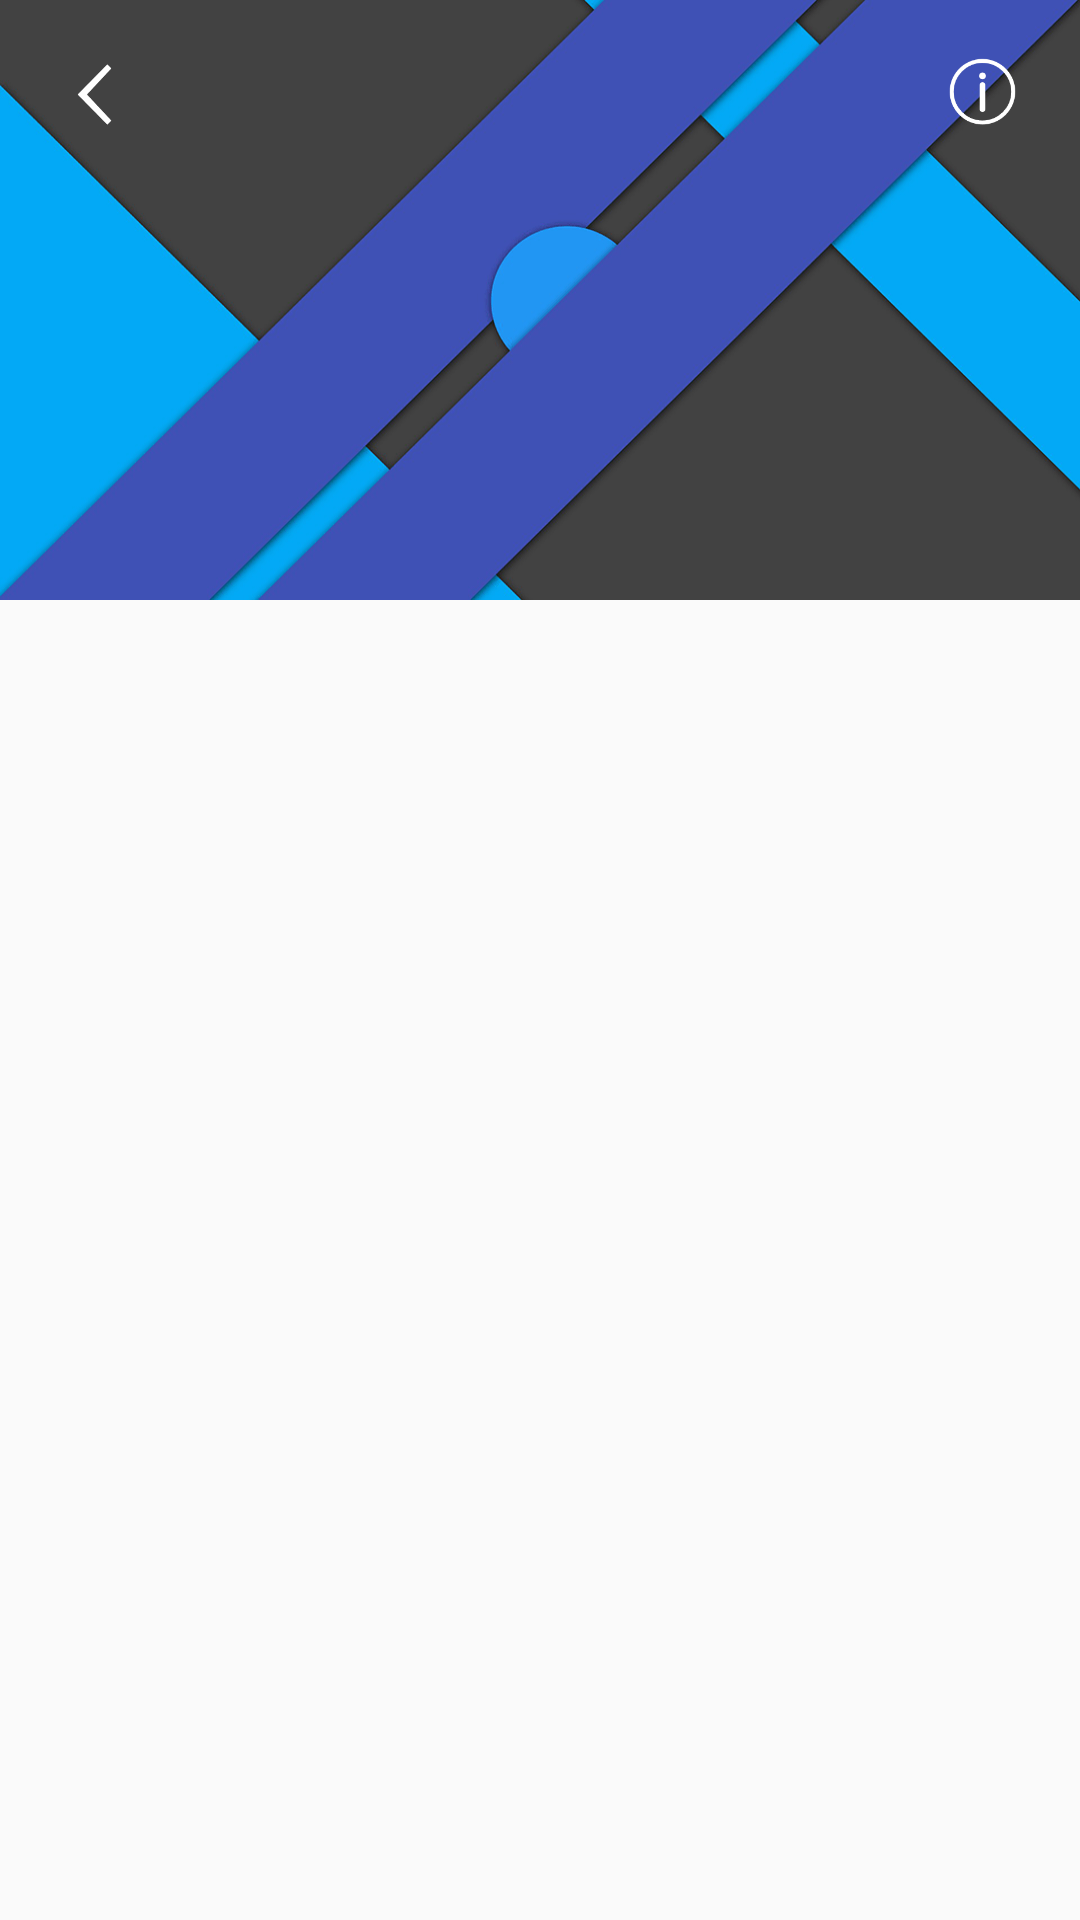

Point at icon controls on the screen. Image size 1080x1920, points as (x=x, y=y).
robot about: (x=982, y=91)
robot back: (x=94, y=94)
